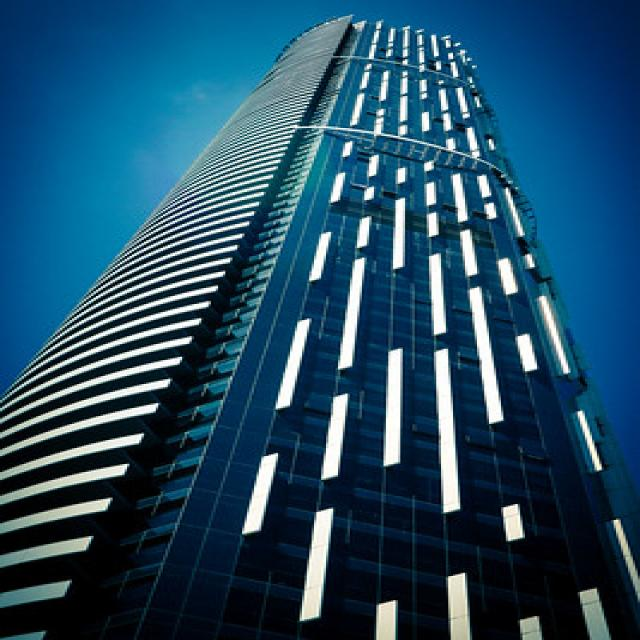Normal_building: (2, 9, 639, 640)
